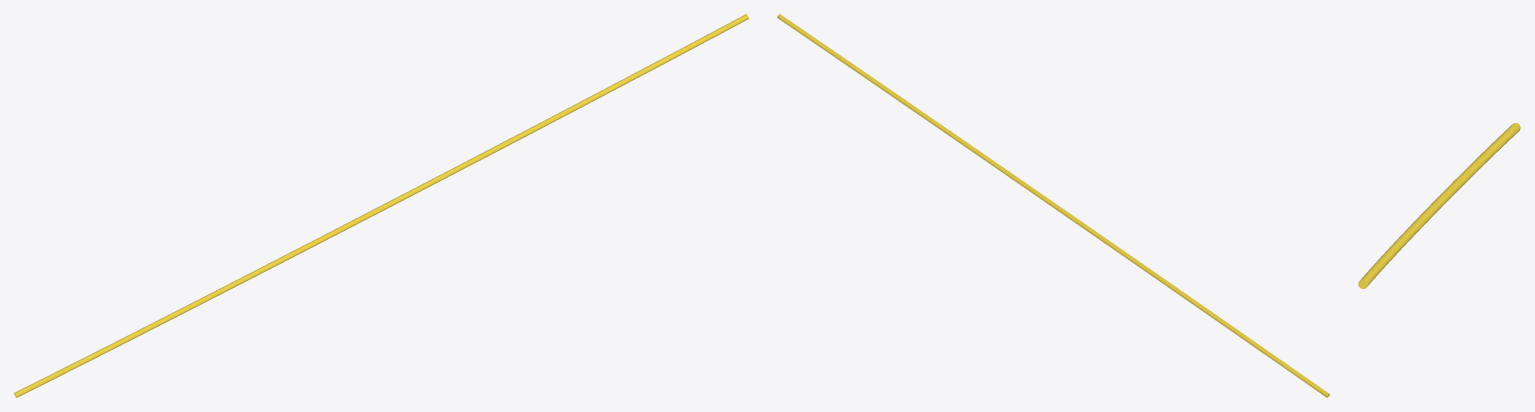
File: Event_15818458_track_2.fbx
3 views of the same model, side by side, from view 1: azimuth 30°, elevation 25°; view 2: azimuth 150°, elevation 25°; view 3: azimuth 270°, elevation 25° (orthographic). The views are drawn at different scales.
Parts seen in each view (by area): view 1: Model; view 2: Model; view 3: Model.
Part boxes in pixels (x1,y1,x2,y2): Model: [14, 14, 748, 397]; Model: [777, 14, 1329, 397]; Model: [1358, 123, 1520, 288].
Bounding box in the file's own units: 5.58 × 1.93 × 0.6665.
